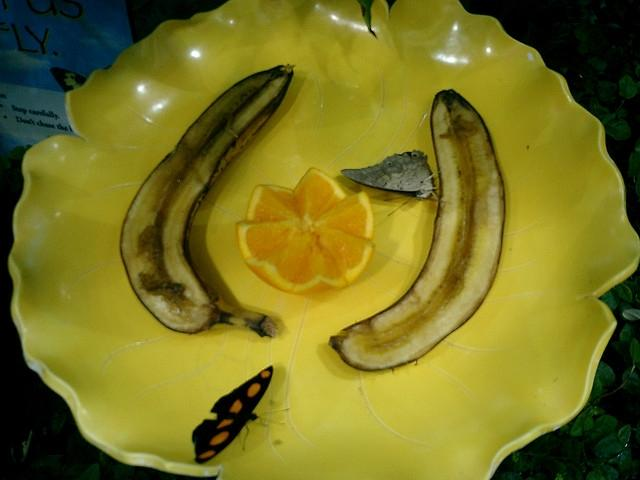banana: (328, 89, 506, 371), (120, 63, 296, 338)
orange: (236, 168, 375, 294)
